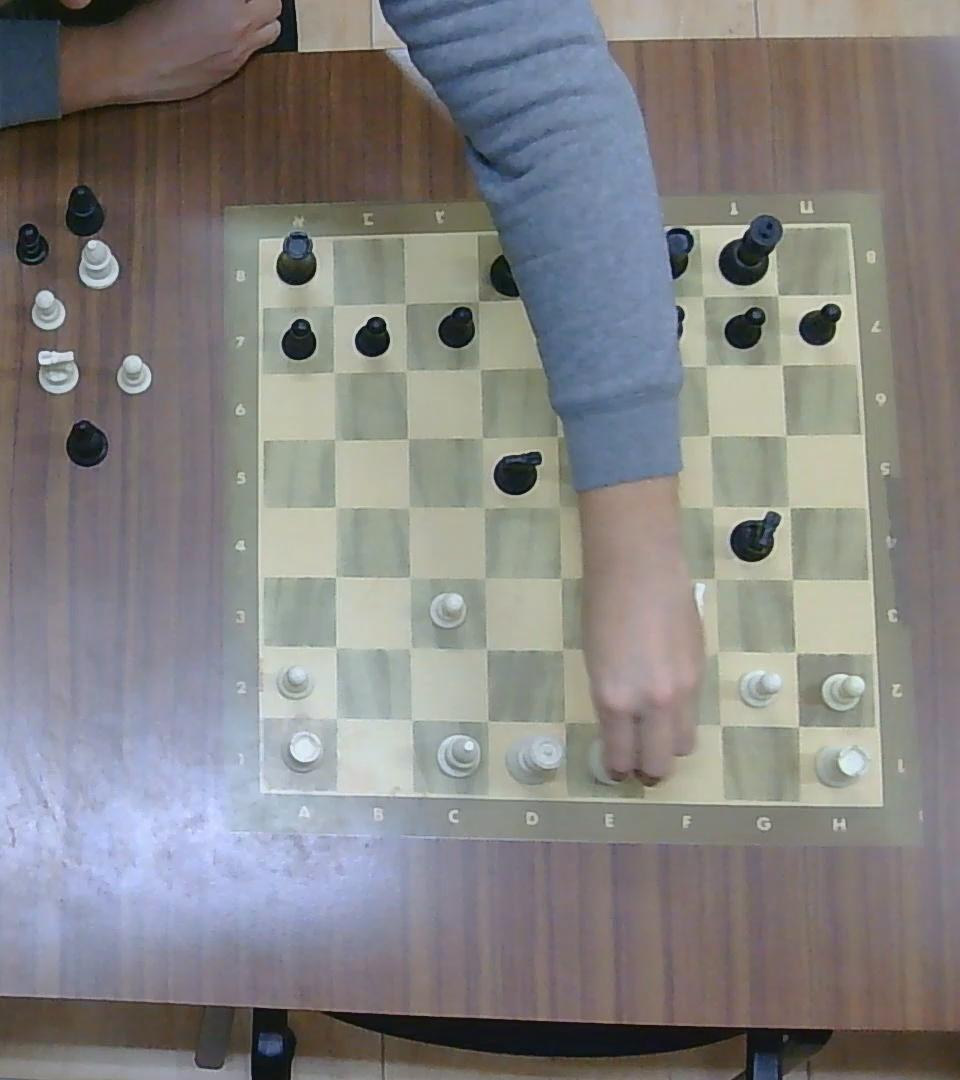xcorner: (536, 280, 573, 316), (703, 707, 737, 739), (781, 708, 813, 742), (779, 635, 812, 667), (620, 280, 651, 313), (470, 704, 501, 736), (702, 635, 733, 667), (547, 633, 578, 665), (548, 706, 579, 737), (776, 563, 807, 594), (393, 561, 424, 592), (395, 702, 425, 734), (626, 704, 656, 736), (621, 490, 651, 522), (320, 701, 350, 732), (470, 634, 501, 664), (394, 632, 424, 663), (625, 563, 655, 594), (625, 634, 655, 665), (320, 631, 350, 661), (320, 562, 350, 591), (469, 491, 499, 520), (465, 353, 495, 382), (701, 563, 729, 594), (617, 350, 645, 381), (548, 562, 577, 591), (470, 562, 499, 591), (773, 491, 802, 520), (543, 421, 573, 449), (317, 291, 346, 319), (691, 350, 720, 378), (545, 491, 573, 520), (621, 422, 649, 451), (318, 357, 346, 385), (689, 281, 717, 309), (467, 421, 495, 449), (320, 422, 347, 451), (699, 491, 726, 520), (321, 492, 350, 519), (394, 492, 423, 519), (393, 423, 421, 450), (542, 351, 568, 380), (392, 356, 419, 382), (768, 349, 794, 376), (695, 421, 723, 446), (765, 282, 791, 307), (772, 421, 798, 446), (466, 287, 491, 313), (393, 289, 418, 314)
